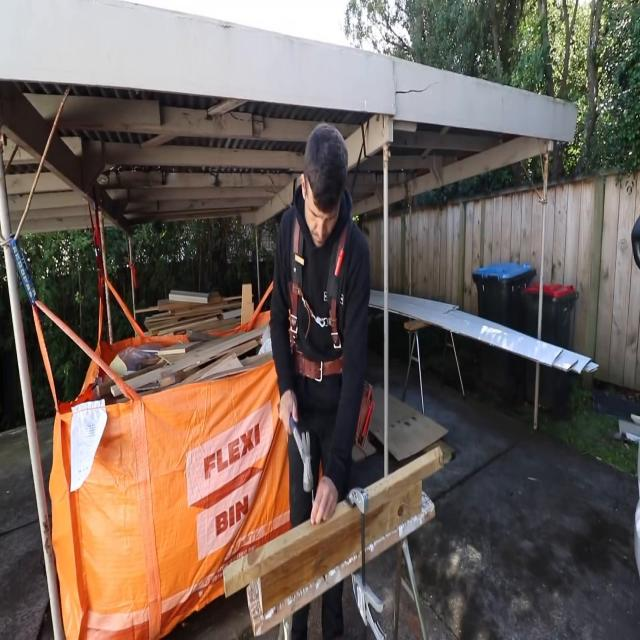hammer: (285, 408, 315, 496)
